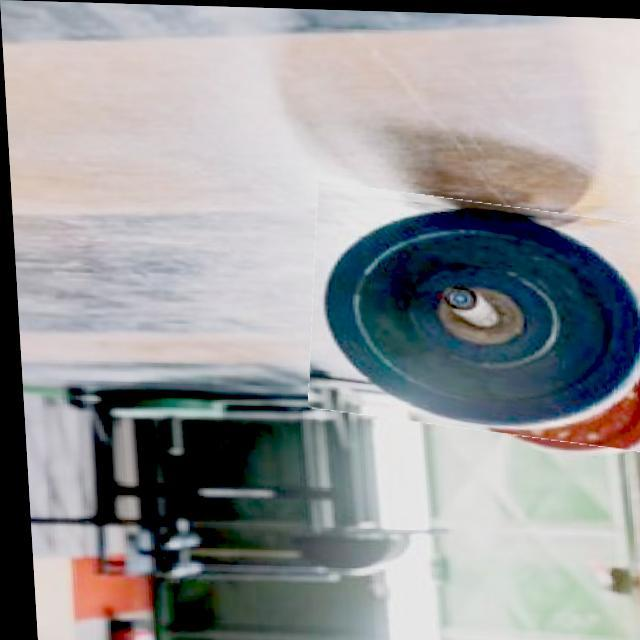barbell: (300, 189, 640, 442)
